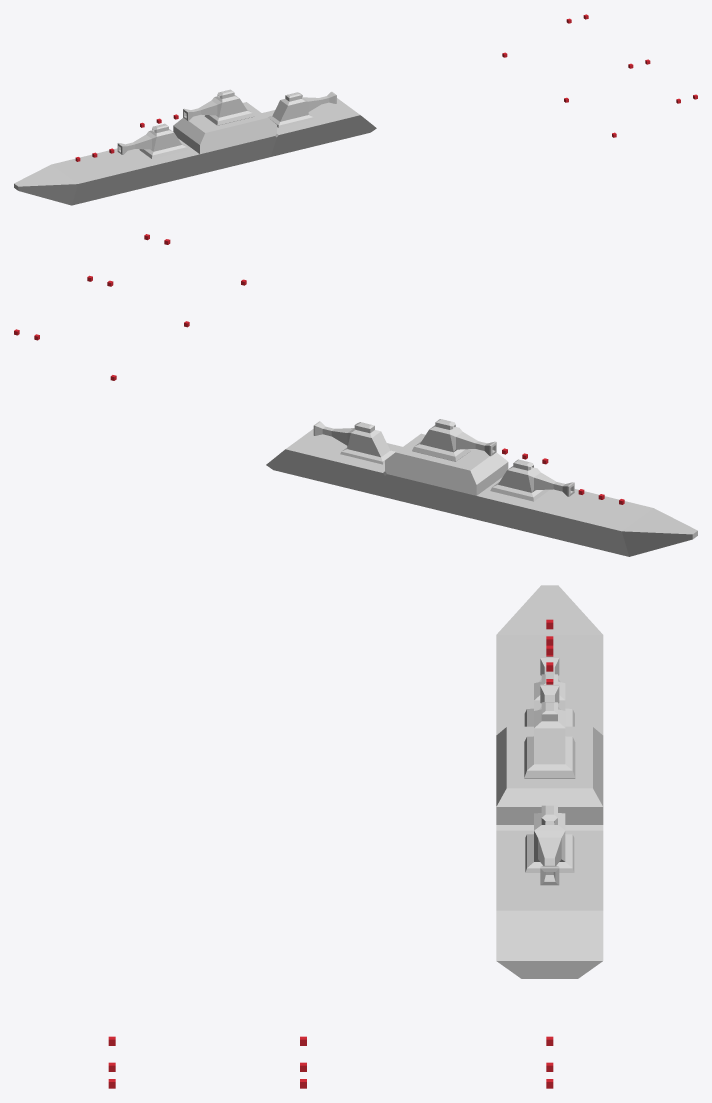
The model's file is ship-fire.glb.
The picture shows the model from 3 angles, top to bottom: view 1: azimuth 30°, elevation 25°; view 2: azimuth 150°, elevation 25°; view 3: azimuth 270°, elevation 25°; orthographic projection. The views are drawn at different scales.
Visible parts, largest first — view 1: Cube; view 2: Cube; view 3: Cube.
Boxes of the visible parts, bbox=[...] form: Cube: bbox=[14, 89, 376, 205]; Cube: bbox=[266, 419, 697, 556]; Cube: bbox=[496, 585, 603, 978].
Bounding box in the file's own units: 84.18 × 9.75 × 31.54.
